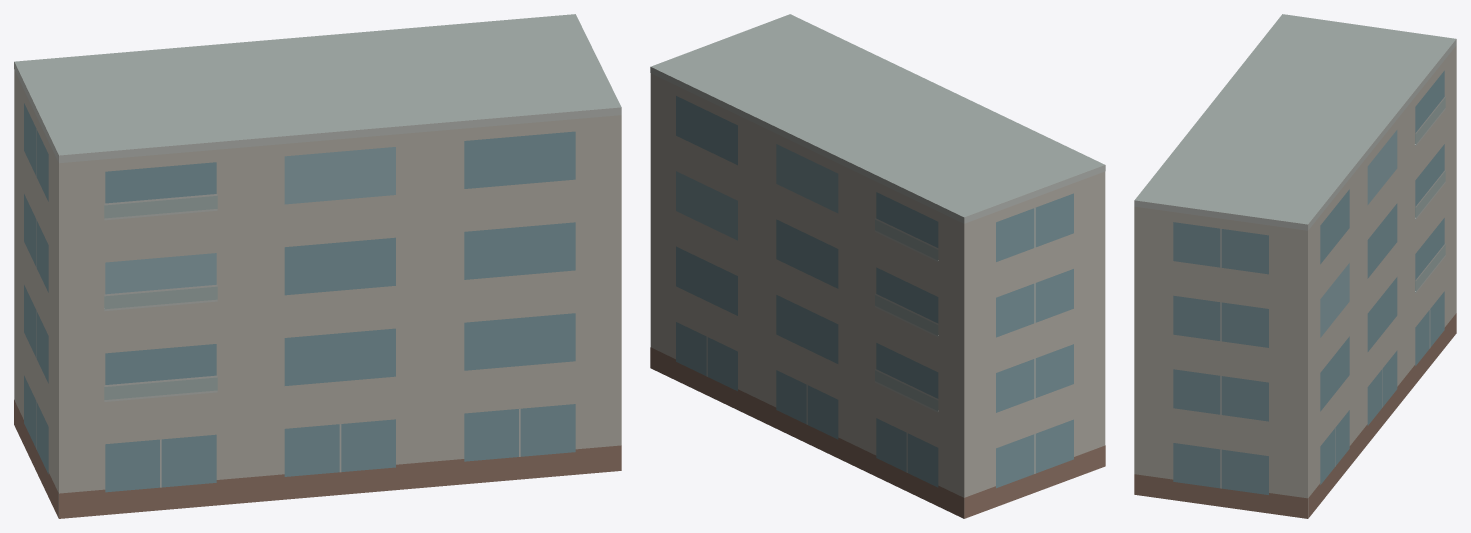
The model's file is survey-upis-32719155.glb.
The picture shows the model from 3 angles, left to right: view 1: azimuth 30°, elevation 25°; view 2: azimuth 150°, elevation 25°; view 3: azimuth 270°, elevation 25°; orthographic projection. The views are drawn at different scales.
Visible parts, largest first — view 1: survey-upis-32719155.tmp; view 2: survey-upis-32719155.tmp; view 3: survey-upis-32719155.tmp.
Boxes of the visible parts, left/top/right/bottom form: survey-upis-32719155.tmp: left=14, top=14, right=621, bottom=518; survey-upis-32719155.tmp: left=650, top=14, right=1105, bottom=518; survey-upis-32719155.tmp: left=1134, top=14, right=1456, bottom=518.
Bounding box in the file's own units: 17.57 × 11.45 × 11.37.
